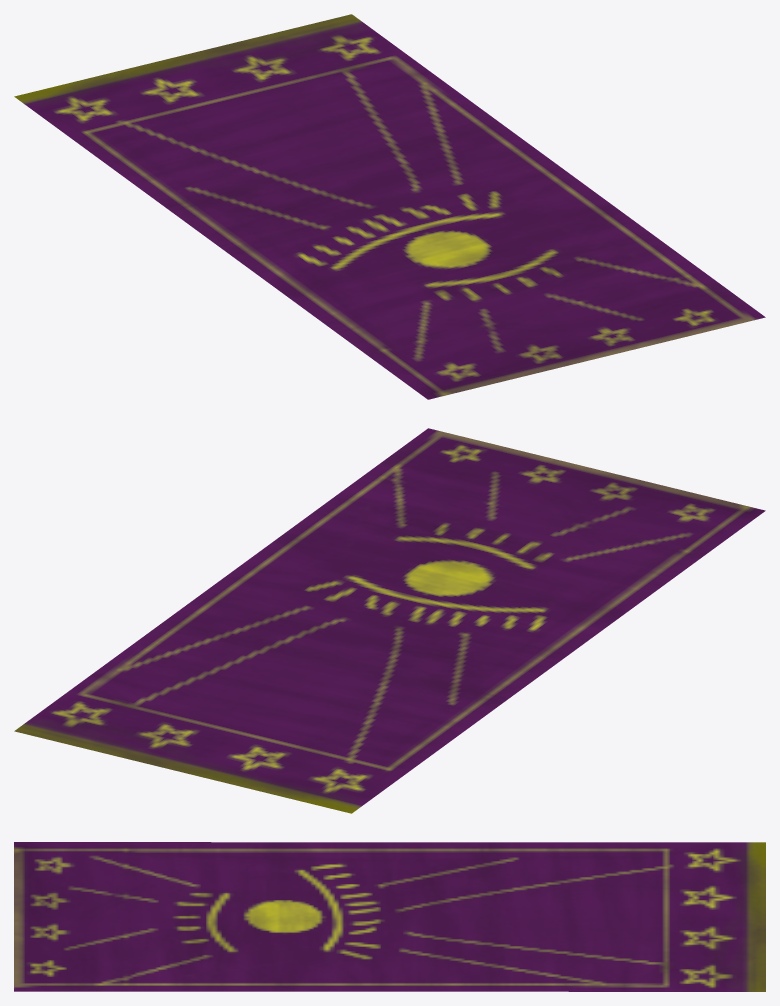
The model's file is floatcarpet.glb.
The picture shows the model from 3 angles, top to bottom: view 1: azimuth 30°, elevation 25°; view 2: azimuth 150°, elevation 25°; view 3: azimuth 270°, elevation 25°; orthographic projection. The views are drawn at different scales.
Visible parts, largest first — view 1: floating carpet; view 2: floating carpet; view 3: floating carpet.
Part boxes in pixels (left/top/right/bottom): floating carpet: left=14, top=14, right=765, bottom=399; floating carpet: left=14, top=428, right=765, bottom=813; floating carpet: left=14, top=842, right=765, bottom=991.
Size of what is drawn, in the model's own units: 1.87 by 0 by 3.98.
Materials: 1 (1 with a texture image).
